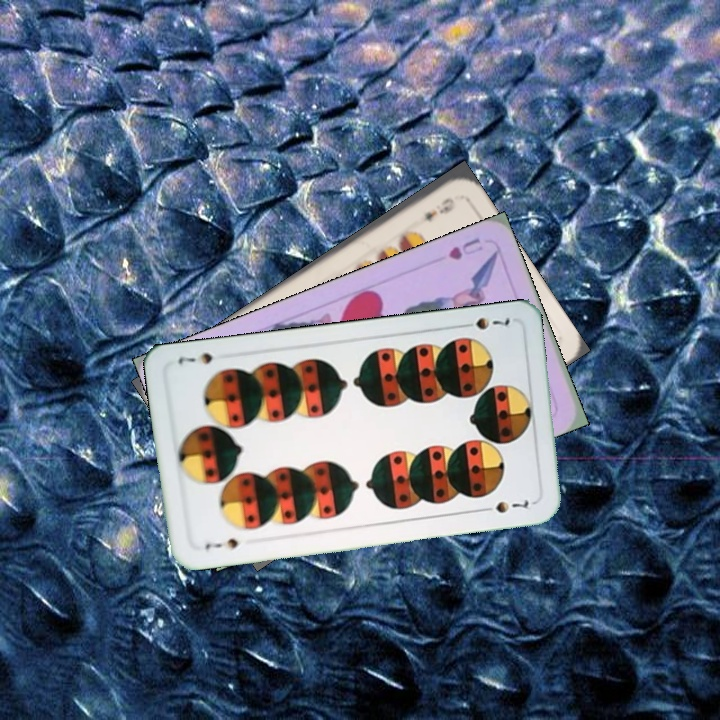E9: (420, 193, 457, 224)
HU: (444, 234, 486, 263)
S7: (456, 312, 512, 333), (201, 534, 241, 552)
